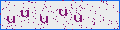u: (20, 9, 30, 18), (39, 15, 49, 24), (58, 8, 68, 17), (73, 14, 83, 23), (7, 15, 16, 24)
